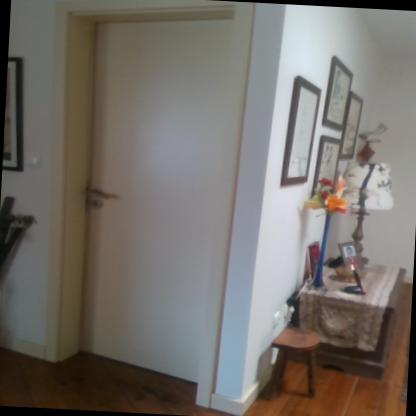closed: (34, 0, 267, 411)
